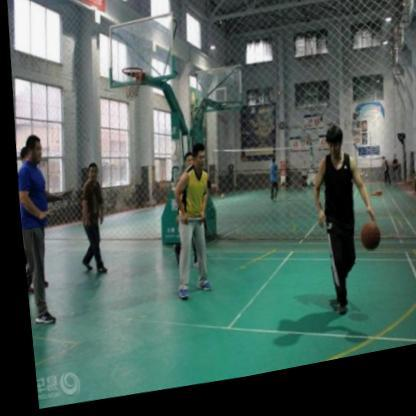basketball: (354, 232, 376, 266)
